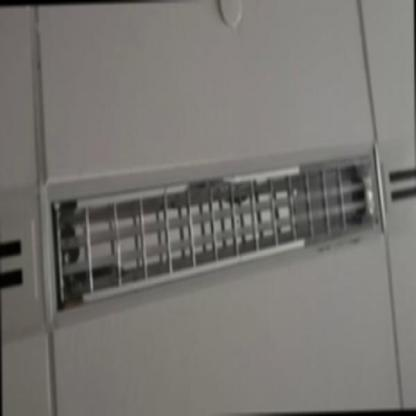light_off: (38, 137, 390, 323)
